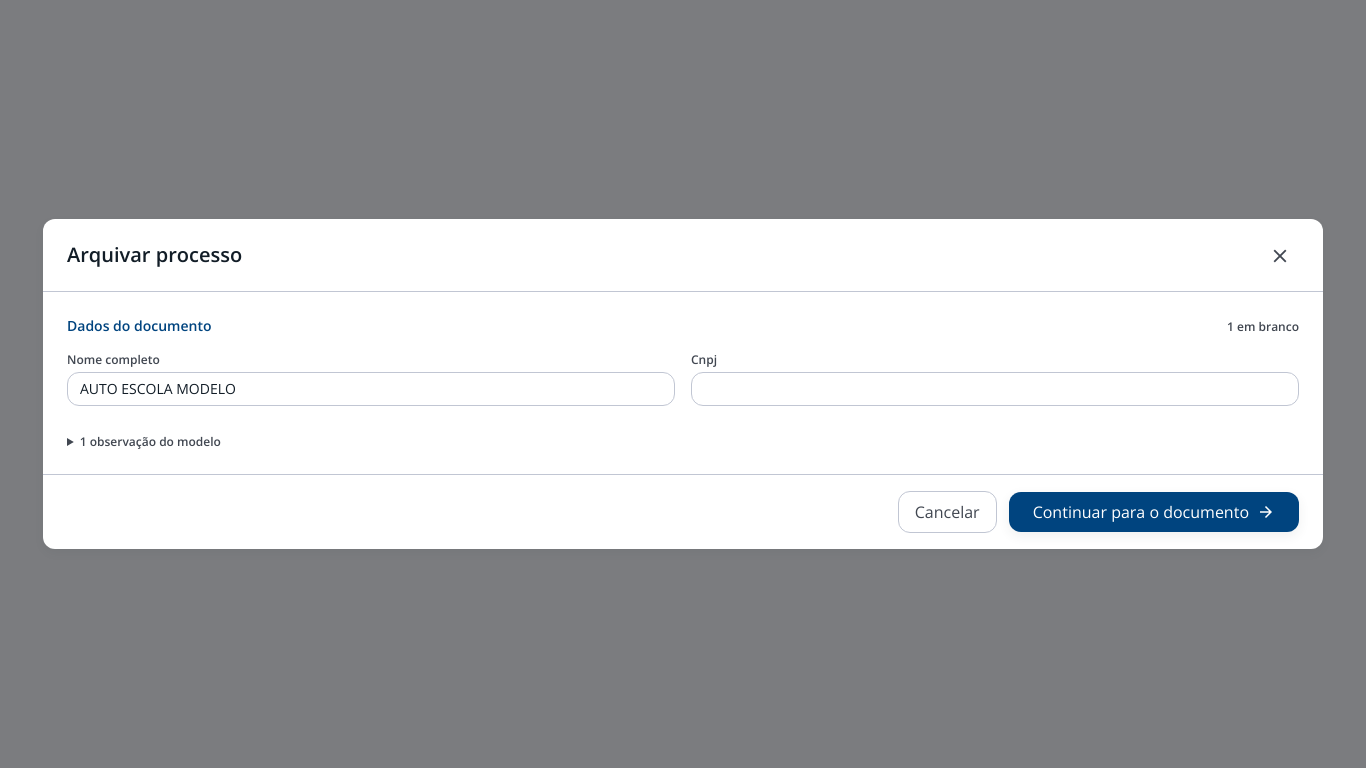
Test: DespachoModal - mala direta › aplica os valores no documento ao continuar para o editor
Replace the text in the field showing "AUTO ESCOLA MODELO" with "EMPRESA EDITADA" at (371, 389), box [67,372,675,406]
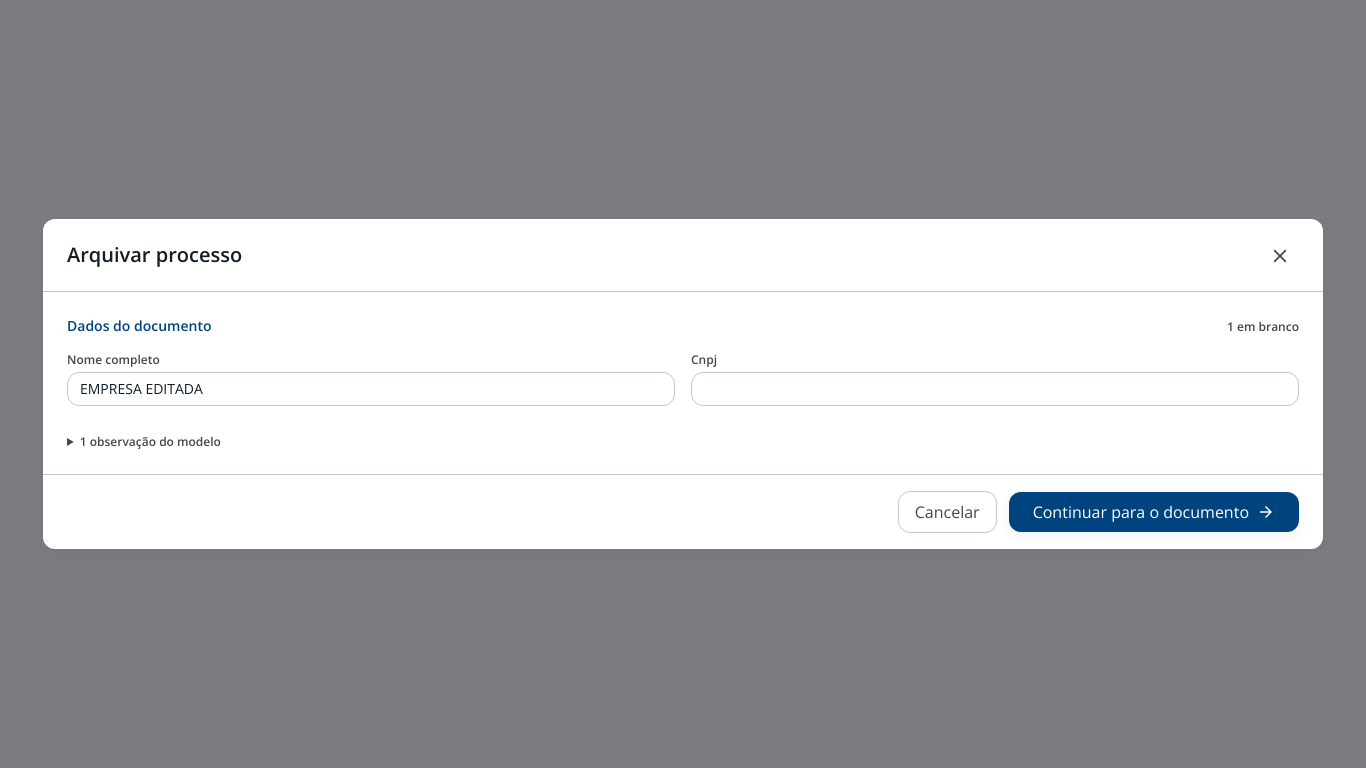
Click the button "Continuar para o documento".
click(1154, 512)  # box [1009,492,1299,532]
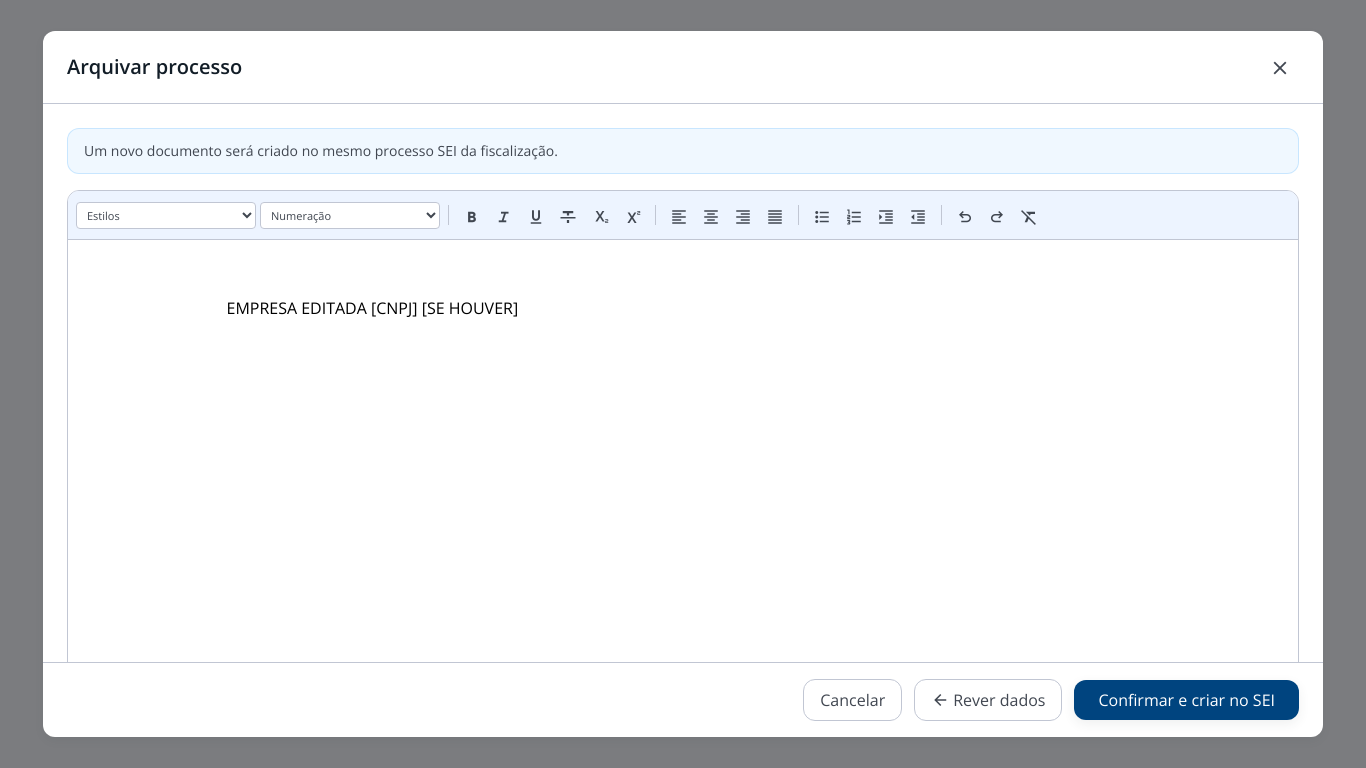
Expected: the text box named "Editor do documento" shows "EMPRESA EDITADA", [68,240,1298,662]
Expected: the text box named "Editor do documento" shows "[CNPJ]", [68,240,1298,662]
Expected: the text box named "Editor do documento" shows "[SE HOUVER]", [68,240,1298,662]
